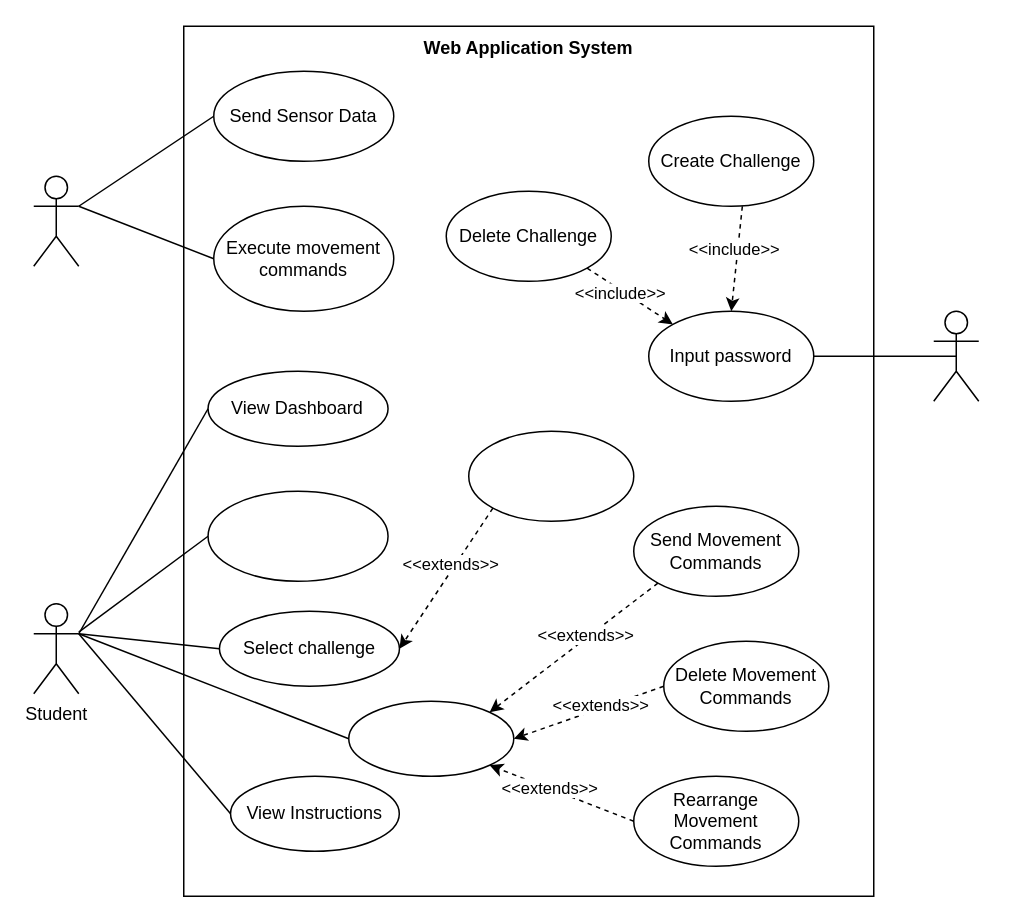
Image size: 1011x923. Some labels were removed from this diagram. Here are the shapes that lost their labels. From the top down, the centre of each, then its label:
At (55,220): "Car".
At (955,355): "Trainer".
At (550,475): "Reset Challenge".
At (297,535): "View Command History".
At (430,738): "Create Movement Commands".
